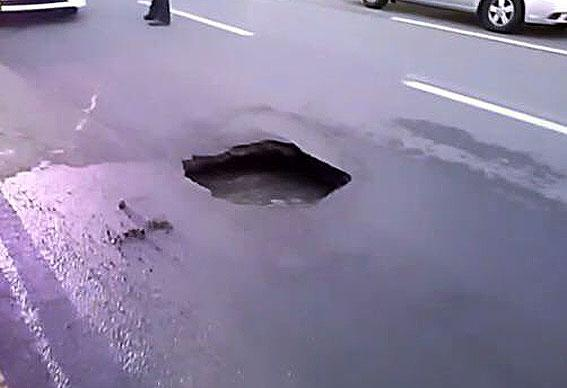pothole: (167, 119, 361, 216)
